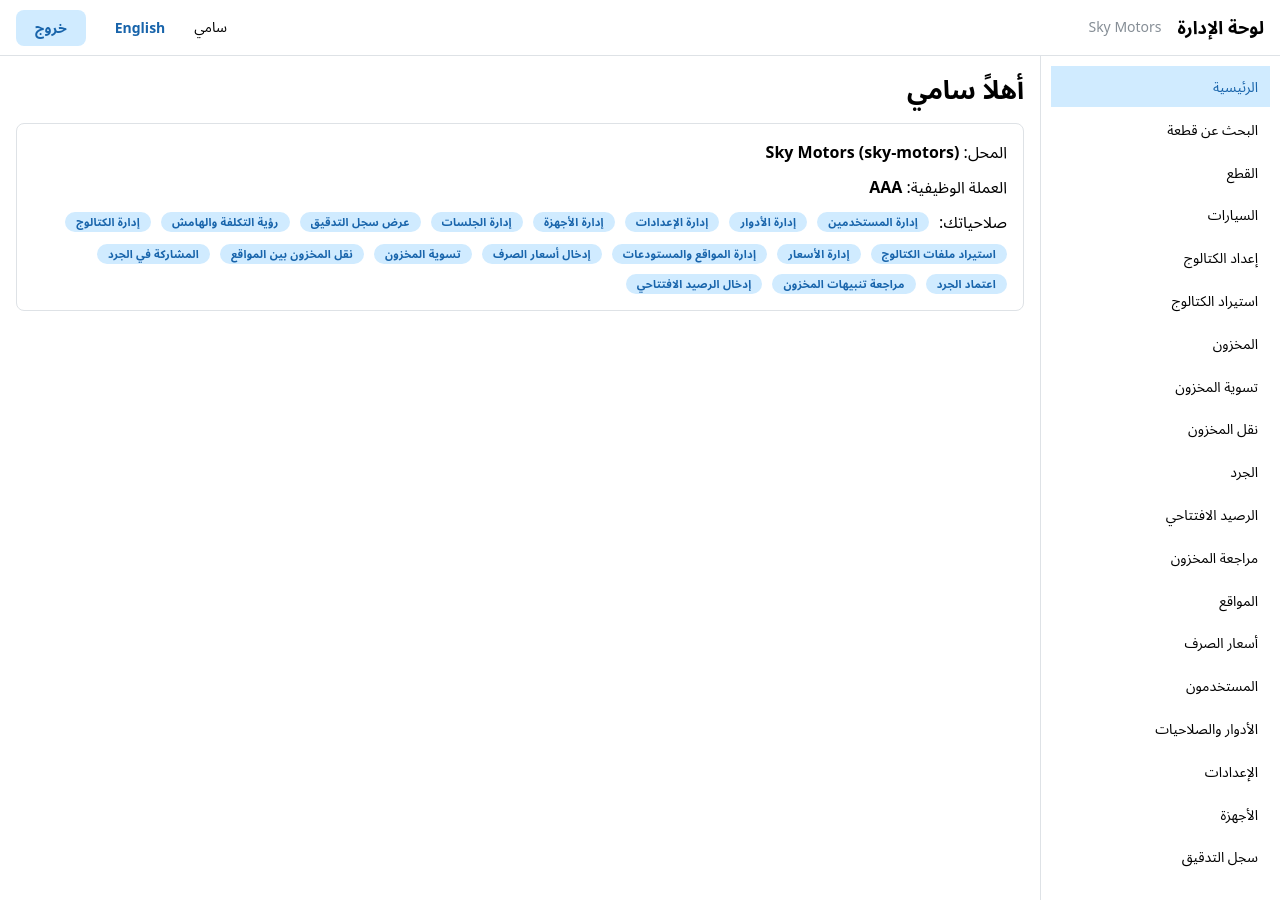
it: signing out › keeps the user signed in when the server fails to end the session
Expected: the heading "أهلاً سامي" is shown, [907,71,1024,107]
Click the button "خروج" at (51,28), box [16,10,86,46]
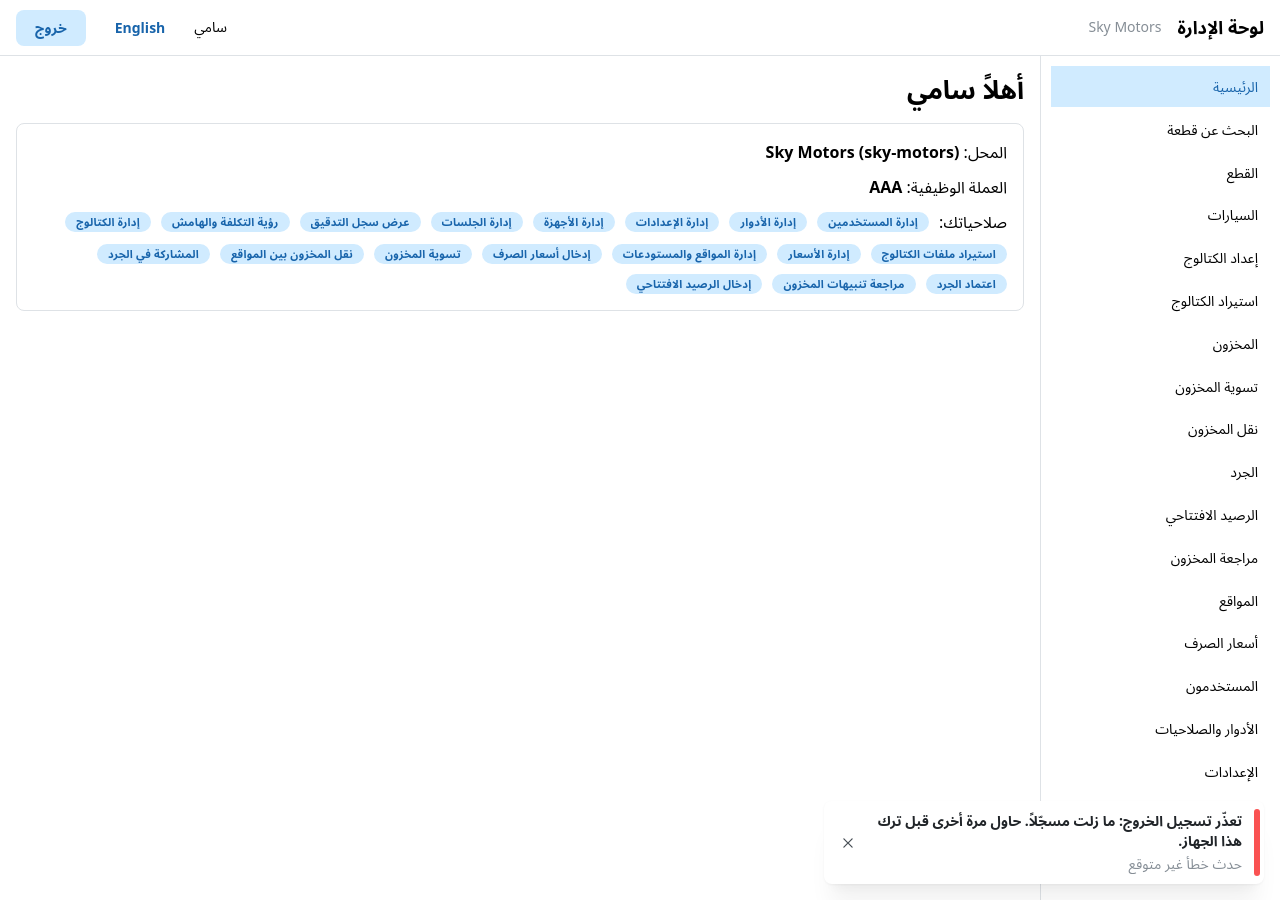
Expected: the heading "أهلاً سامي" is shown, [907,71,1024,107]
Now the message shows "تعذّر تسجيل الخروج: ما زلت مسجّلاً. حاول مرة أخرى قبل ترك هذا الجهاز.", box [878,811,1242,850]
